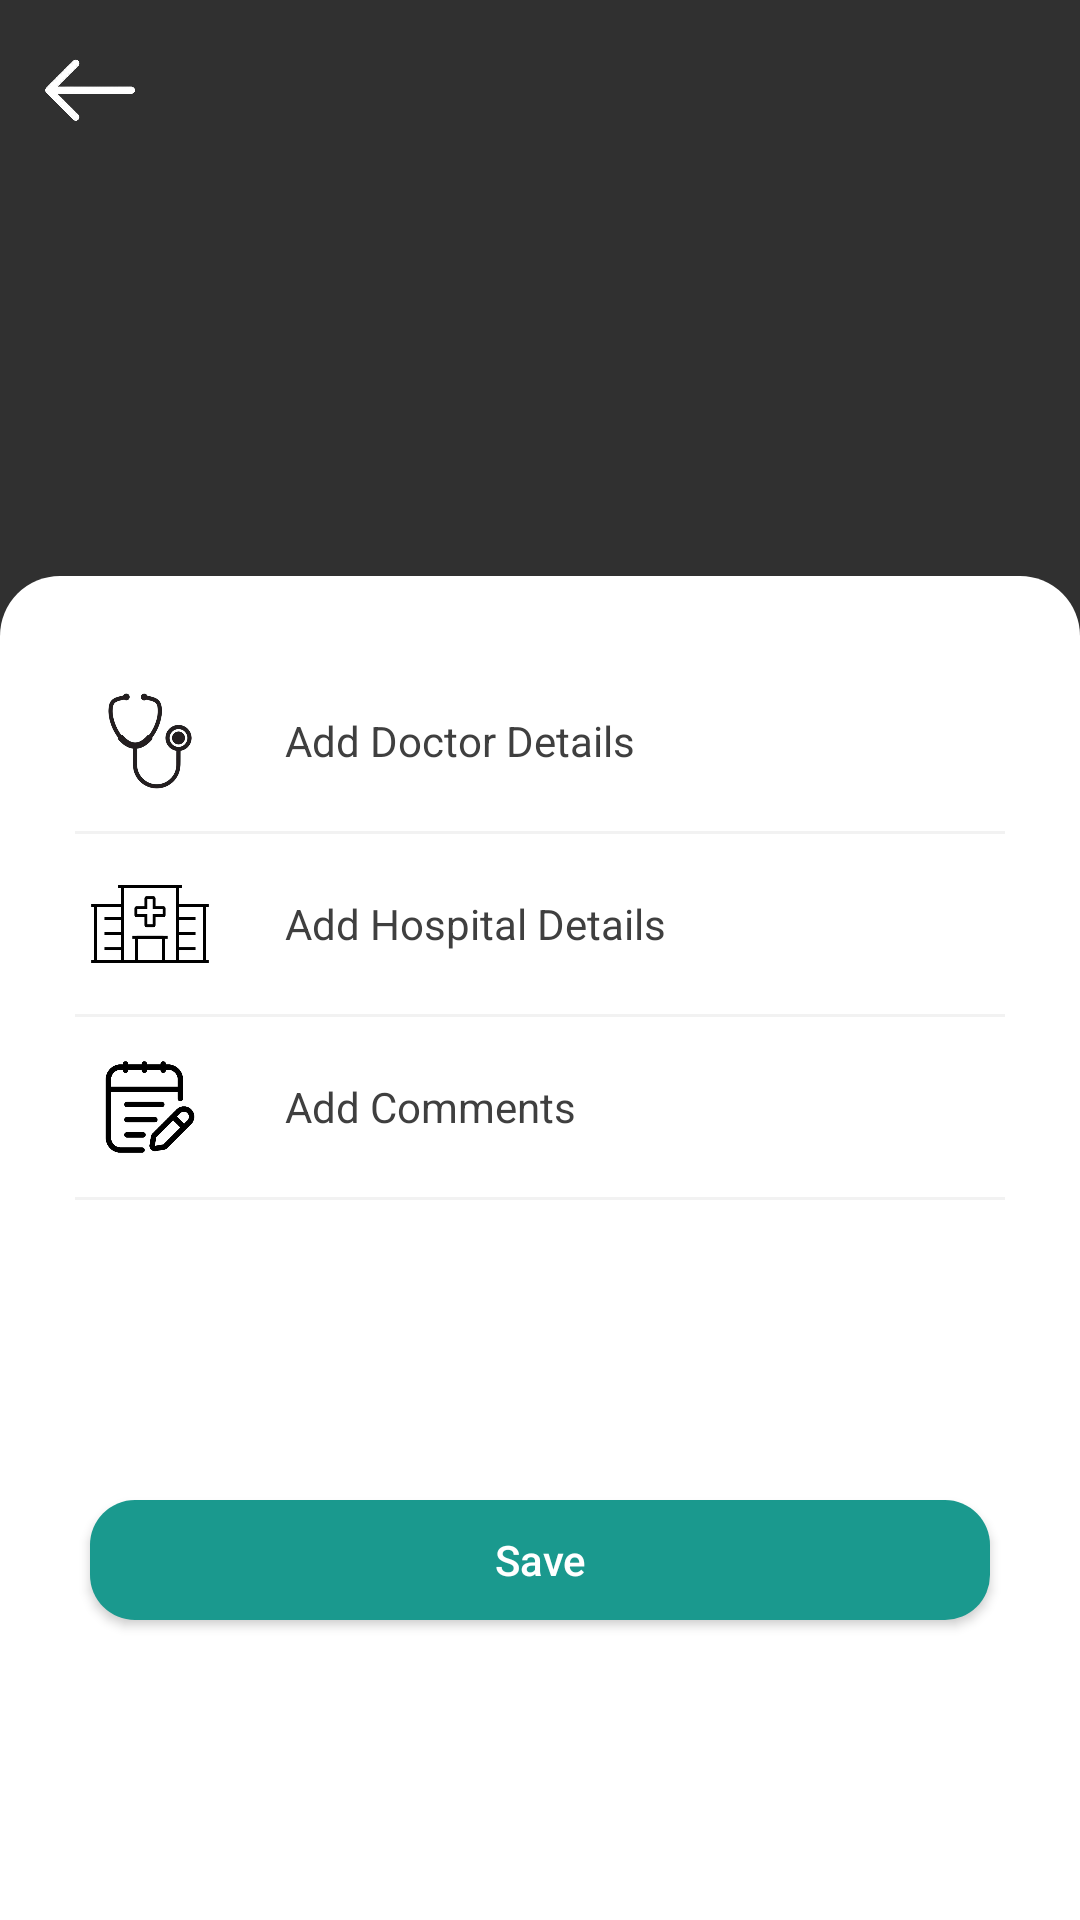

Named icons in this screenshot (1080px x 1920px) and their centers, [x,y]:
back: [90,90]
notes: [150,1107]
phonendoscope: [150,741]
